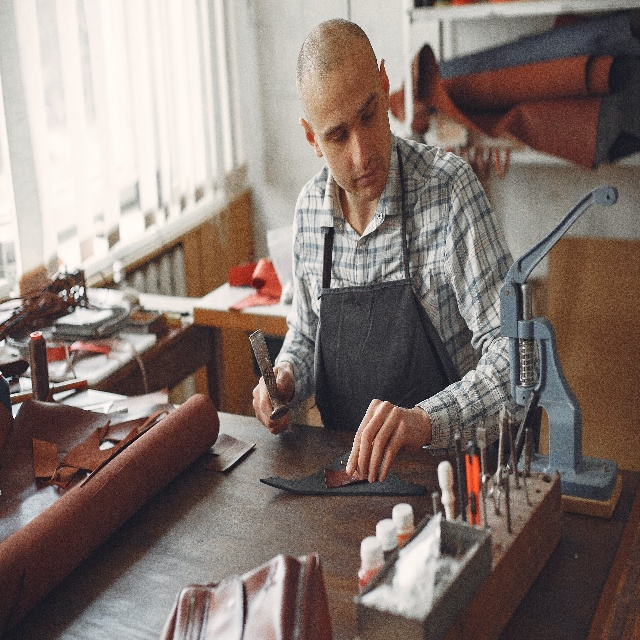Sin_guantes: (345, 397, 423, 482), (252, 363, 295, 436)
